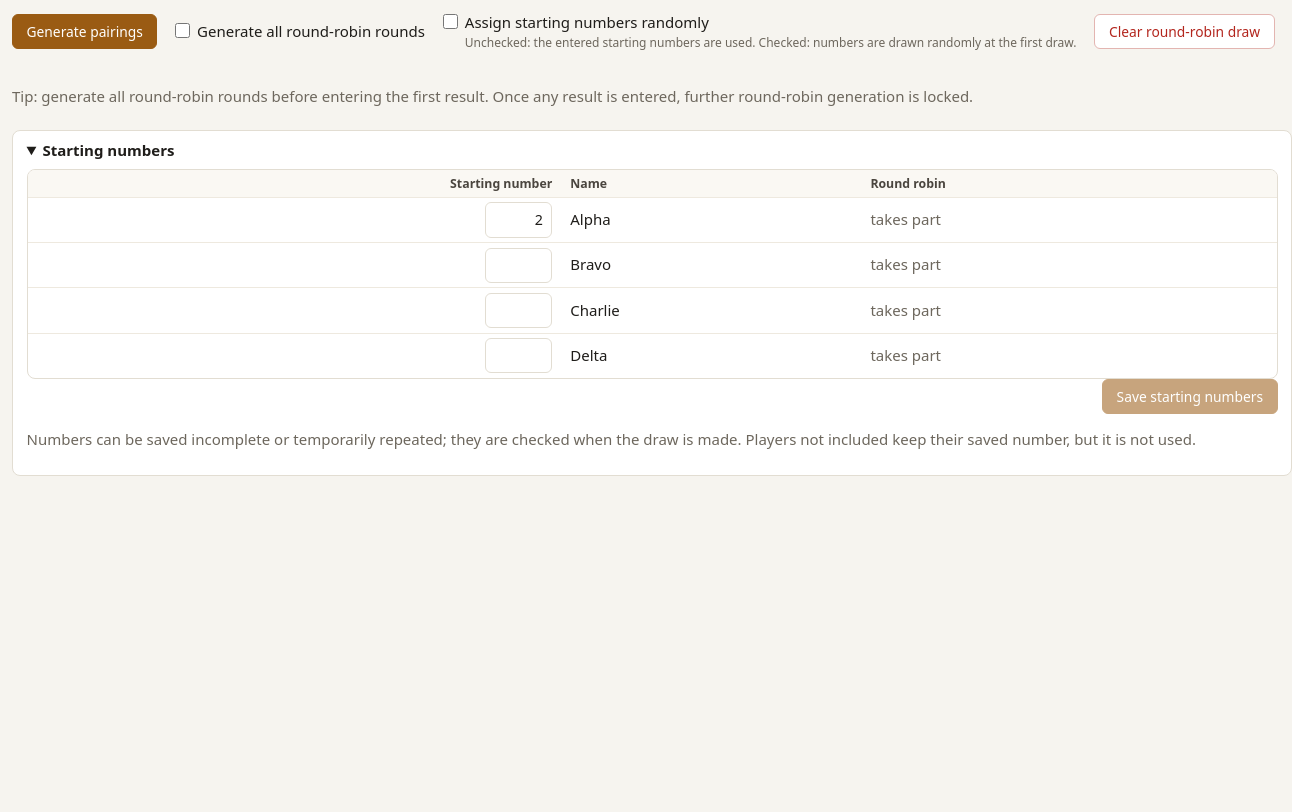
Test: round-robin generation dialogs › rejects a typed 0 in the table without saving anything
The image size is (1292, 812).
Replace the text in the field named "Starting number: Alpha" with "0" at (518, 220), box x1=485 y1=202 x2=552 y2=238
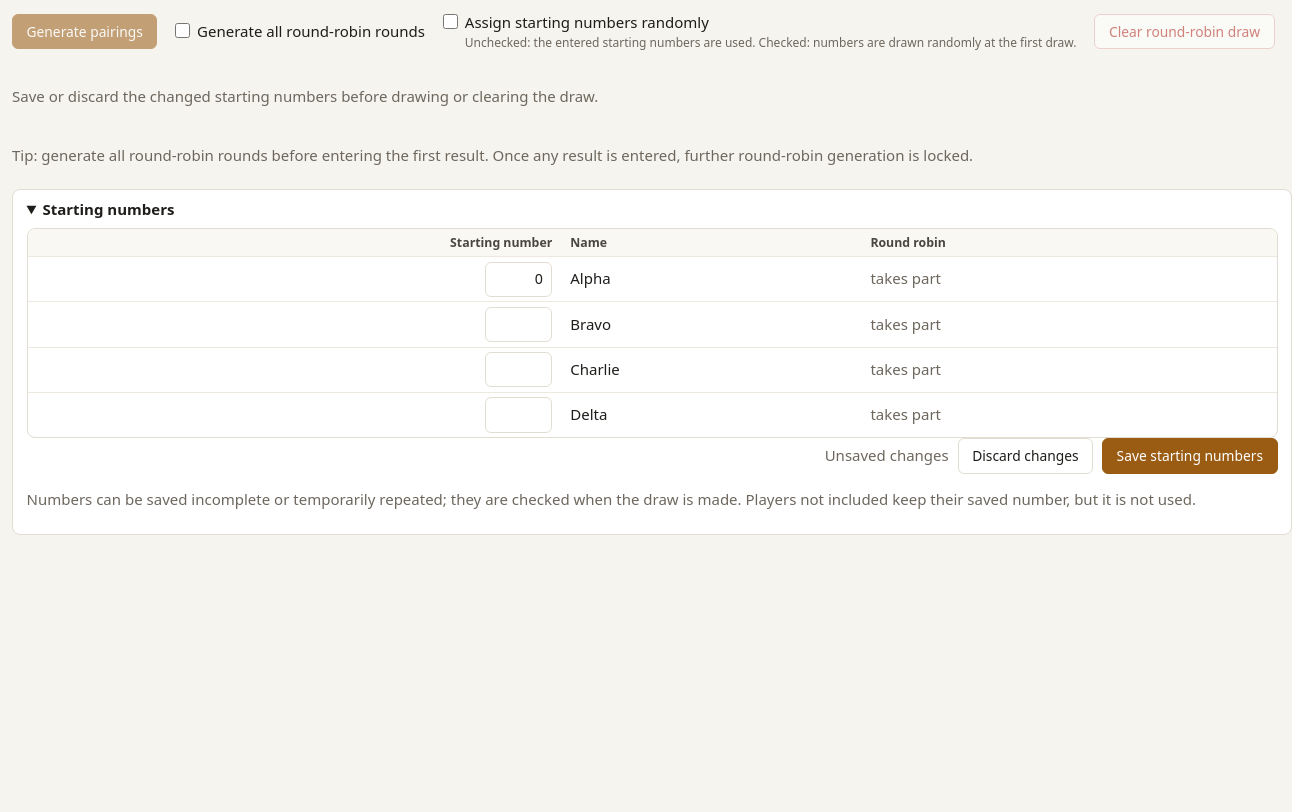
Click the button "Save starting numbers" at (1190, 456), box x1=1102 y1=438 x2=1278 y2=474
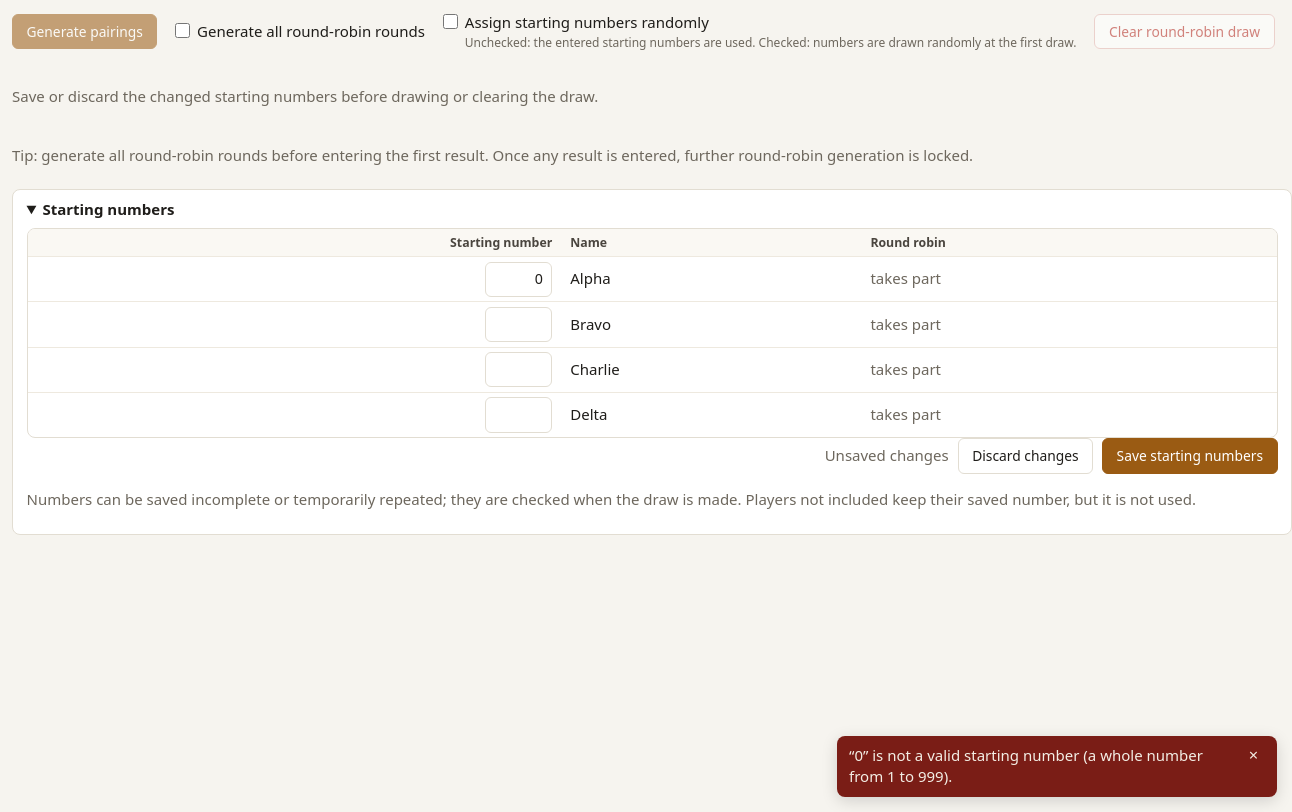
Expected: the text "“0” is not a valid starting number" is shown, x1=849 y1=744 x2=1203 y2=786
